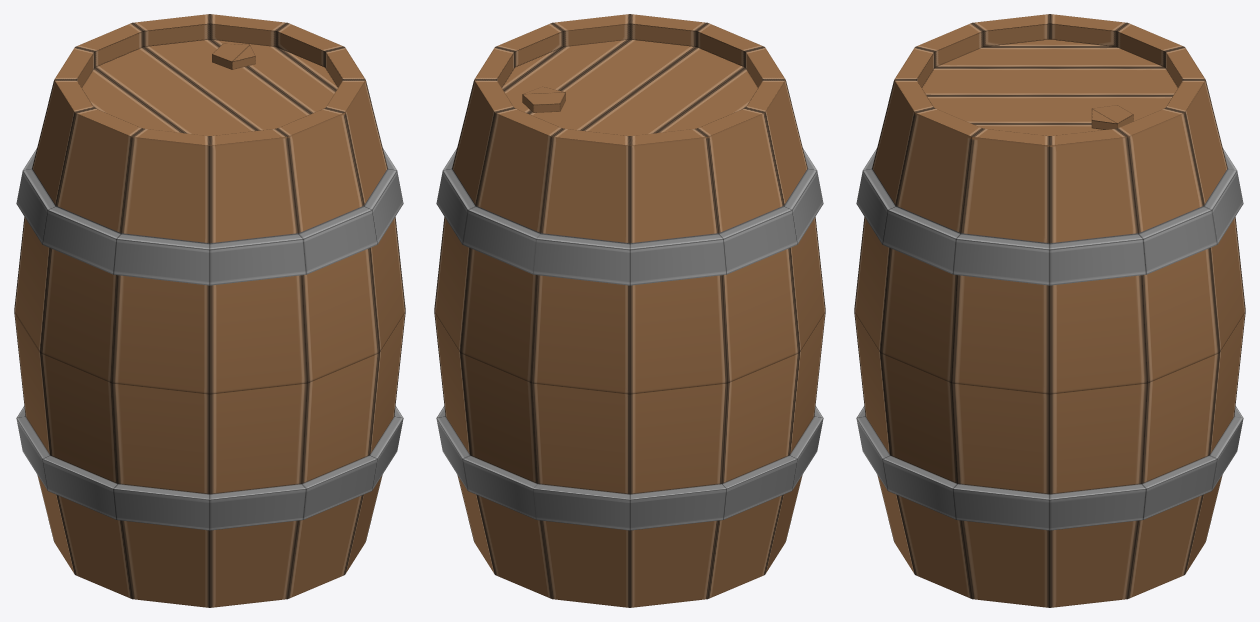
Rendered from Barrel.fbx.
The picture shows the model from 3 angles, left to right: view 1: azimuth 30°, elevation 25°; view 2: azimuth 150°, elevation 25°; view 3: azimuth 270°, elevation 25°; orthographic projection.
Visible parts, largest first — view 1: Barrel_LOD0; view 2: Barrel_LOD0; view 3: Barrel_LOD0.
Boxes of the visible parts, x1,y1,x2,y2 form: Barrel_LOD0: [14, 14, 405, 607]; Barrel_LOD0: [434, 14, 825, 607]; Barrel_LOD0: [854, 14, 1245, 607].
Size of what is drawn, in the model's own units: 69.11 by 90 by 69.11.
